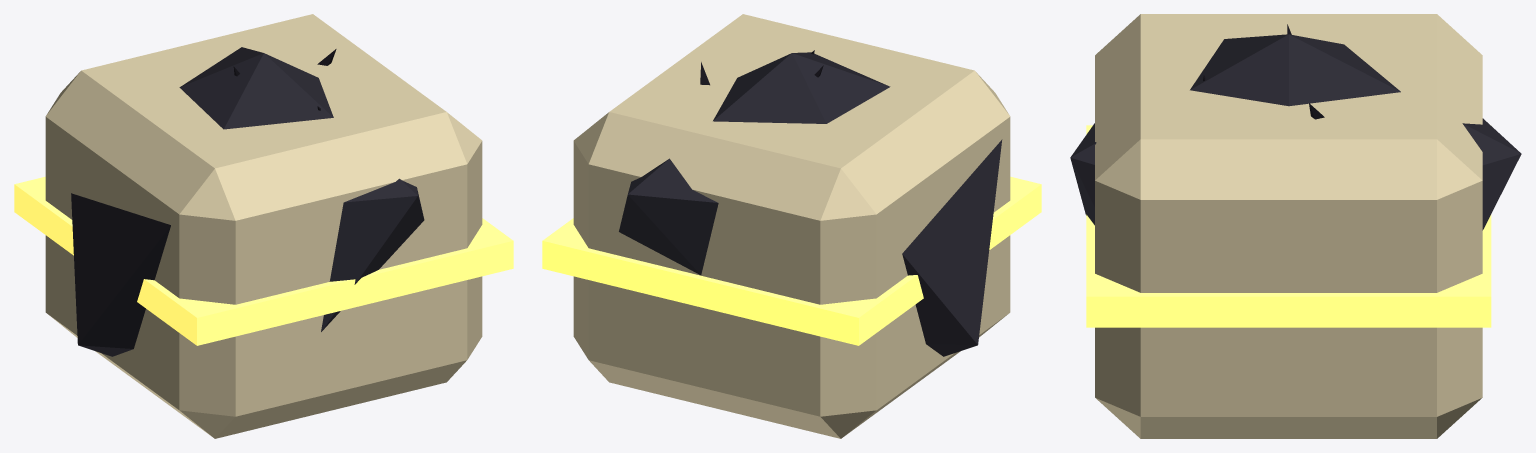
File: stone_chunk.glb
3 renders of one model, left to right at view 1: azimuth 30°, elevation 25°; view 2: azimuth 150°, elevation 25°; view 3: azimuth 270°, elevation 25°, orthographic. The views are drawn at different scales.
Parts seen in each view (by area): view 1: stone_chunk_restored, stone_chunk_corrupted; view 2: stone_chunk_restored, stone_chunk_corrupted; view 3: stone_chunk_restored, stone_chunk_corrupted.
Part boxes in pixels (left/top/right/bottom): stone_chunk_restored: left=14, top=14, right=513, bottom=438; stone_chunk_corrupted: left=71, top=47, right=424, bottom=356; stone_chunk_restored: left=542, top=14, right=1041, bottom=438; stone_chunk_corrupted: left=619, top=50, right=1002, bottom=356; stone_chunk_restored: left=1086, top=14, right=1491, bottom=438; stone_chunk_corrupted: left=1070, top=24, right=1521, bottom=230.
Bounding box in the file's own units: 0.7725 × 0.7597 × 0.7917.
